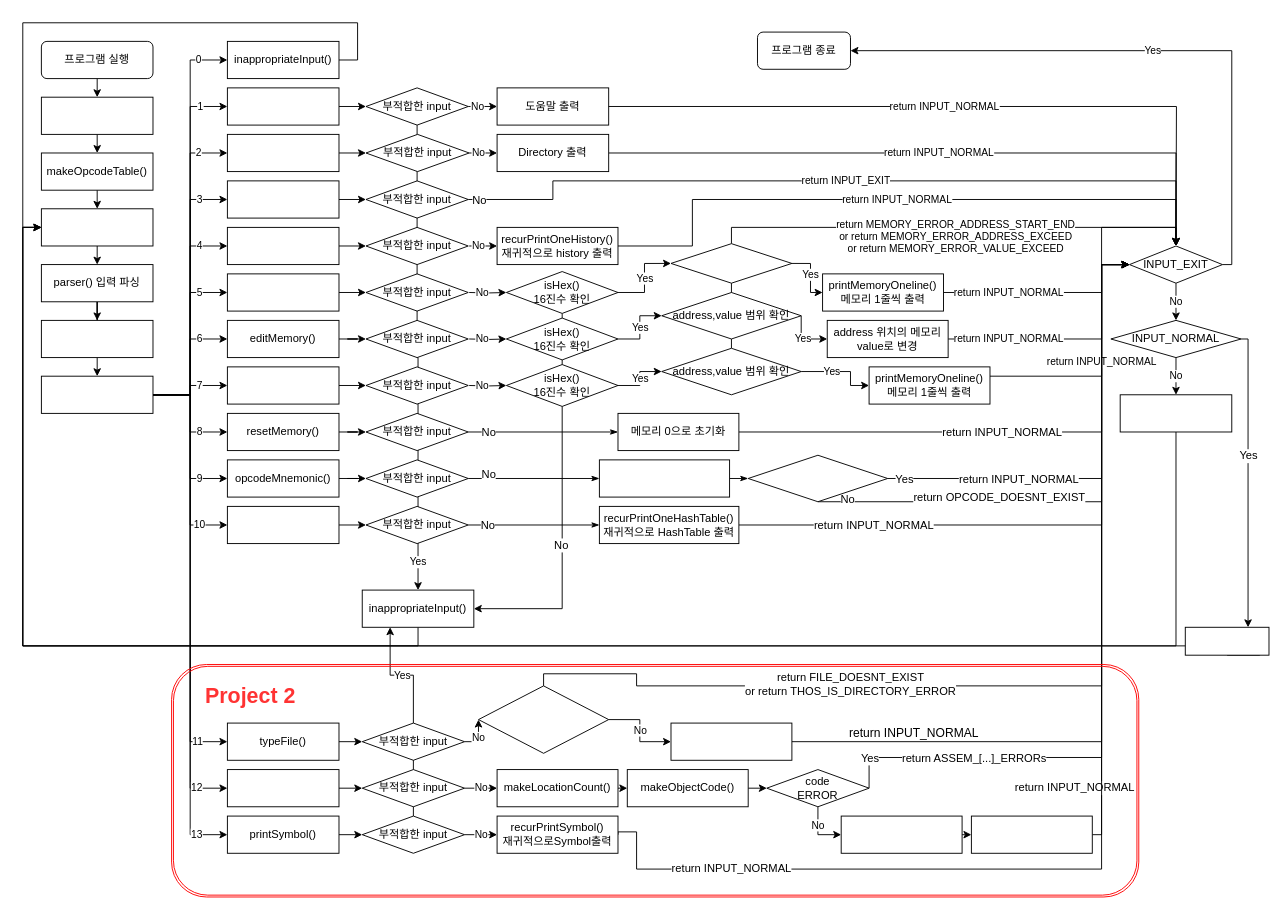
Image size: 1285x913. Some labels were removed from this diagram. Each missing label, with the box of its shape:
address 범위 확인: (670, 243, 792, 283)
assembleFile(): (226, 769, 339, 807)
classifyInput() 입력 명령어 분류: (40, 319, 153, 358)
Directory,file 유무 check: (478, 685, 609, 753)
dumpMemory(): (226, 273, 339, 311)
fgets() 입력: (40, 208, 153, 246)
FIle의 내용 출력: (670, 722, 792, 760)
fillMemory(): (226, 366, 339, 404)
functionPointer[] 분류된 함수 실행: (40, 375, 153, 413)
help(): (226, 87, 339, 125)
instructionSetInit(): (40, 96, 153, 134)
makeListingFile(): (840, 815, 962, 853)
makeObjectFile(): (970, 815, 1092, 853)
opcode 찾기 성공: (747, 454, 888, 502)
opcodeList(): (226, 505, 339, 544)
printDirectory(): (226, 133, 339, 172)
printError() 에러구문 출력: (1119, 394, 1232, 432)
printHistory(): (226, 226, 339, 265)
quitProgram(): (226, 180, 339, 218)
recurFineOpcode() 재귀적으로 opcode 탐색: (598, 459, 730, 497)
storeHistory(): (1184, 626, 1269, 655)
